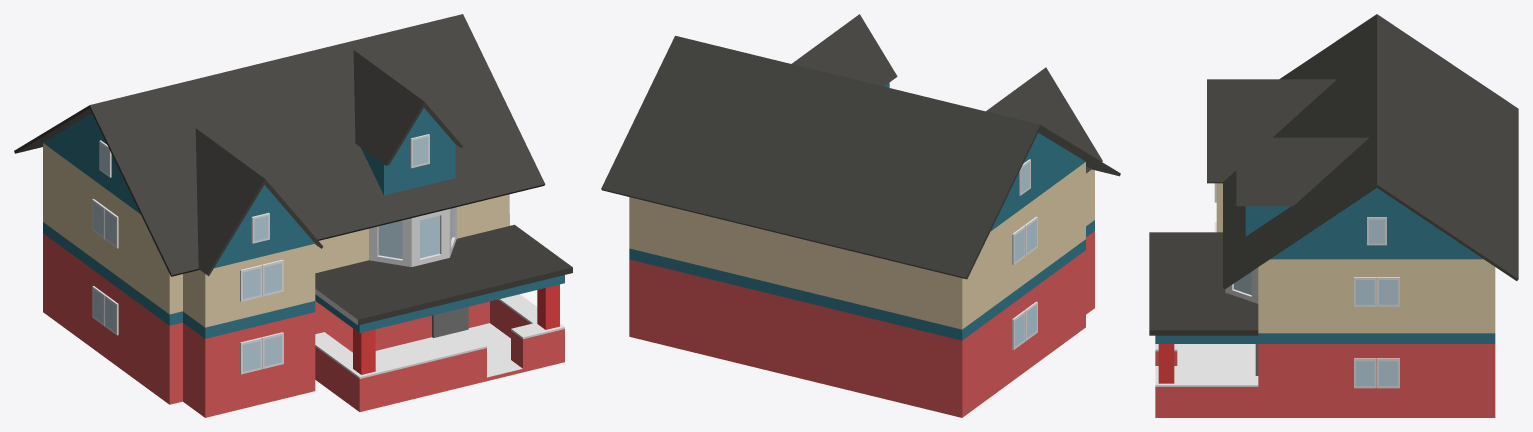
File: house.glb
3 views of the same model, side by side, from view 1: azimuth 30°, elevation 25°; view 2: azimuth 150°, elevation 25°; view 3: azimuth 270°, elevation 25° (orthographic). The views are drawn at different scales.
Visible parts, largest first — view 1: Building_1_Mat_0; view 2: Building_1_Mat_0; view 3: Building_1_Mat_0.
Boxes of the visible parts, box(x1,y1,x2,y2) form: Building_1_Mat_0: box(14, 14, 572, 417); Building_1_Mat_0: box(601, 14, 1120, 417); Building_1_Mat_0: box(1149, 14, 1518, 417).
Bounding box in the file's own units: 4.15 × 2.74 × 3.8.
1 material, 1 textured.
